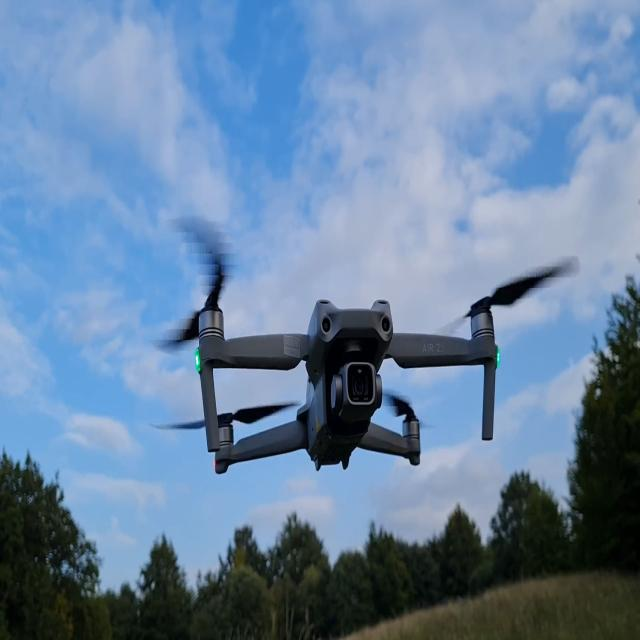drone: (149, 213, 580, 475)
